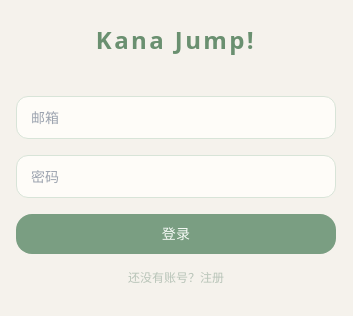
Test: AuthGate › displays error message on sign-in failure
The width and height of the screenshot is (353, 316).
Type "bad@example.com" into the field with placeholder "邮箱". click: (176, 118)
box: x1=16 y1=96 x2=336 y2=139
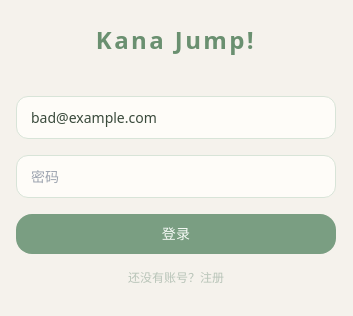
Type "wrong" into the password field with placeholder "密码". click: (176, 176)
box: x1=16 y1=155 x2=336 y2=198
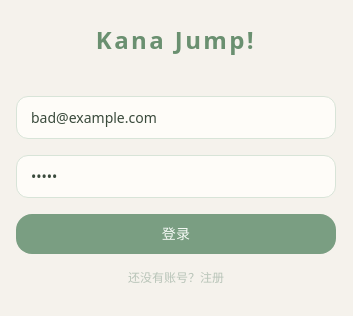
Click the button "登录". click: (176, 234)
box: x1=16 y1=214 x2=336 y2=254
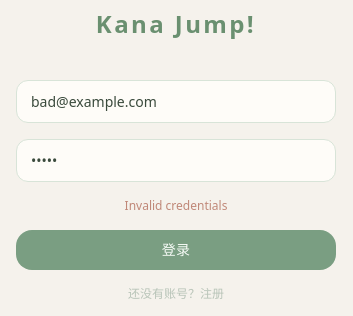
Check: the text "Invalid credentials" is shown, box x1=125 y1=197 x2=227 y2=214
